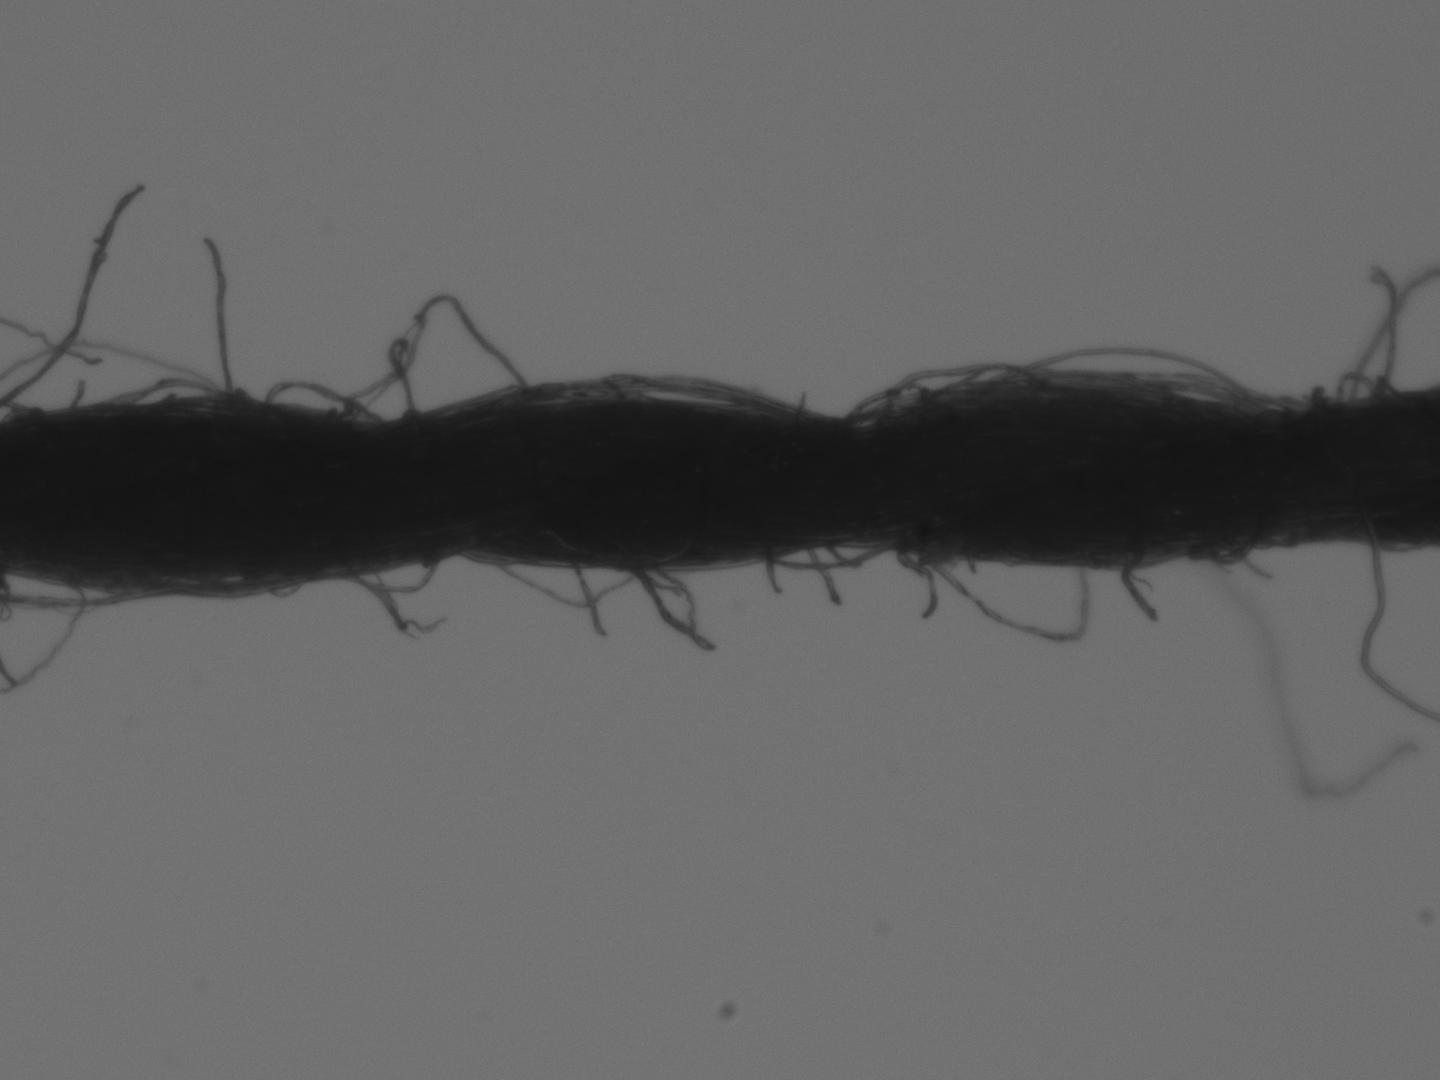loop_fiber: (349, 293, 528, 420), (908, 545, 1093, 642), (994, 343, 1262, 402), (884, 356, 1082, 420), (492, 560, 641, 613), (637, 564, 709, 650), (117, 574, 303, 605), (259, 376, 383, 420), (331, 551, 440, 599), (749, 540, 897, 573), (842, 383, 948, 427), (95, 374, 236, 404), (1304, 373, 1404, 412), (1189, 543, 1254, 564)
protruding_fiber: (200, 227, 243, 398), (1116, 549, 1162, 626)
